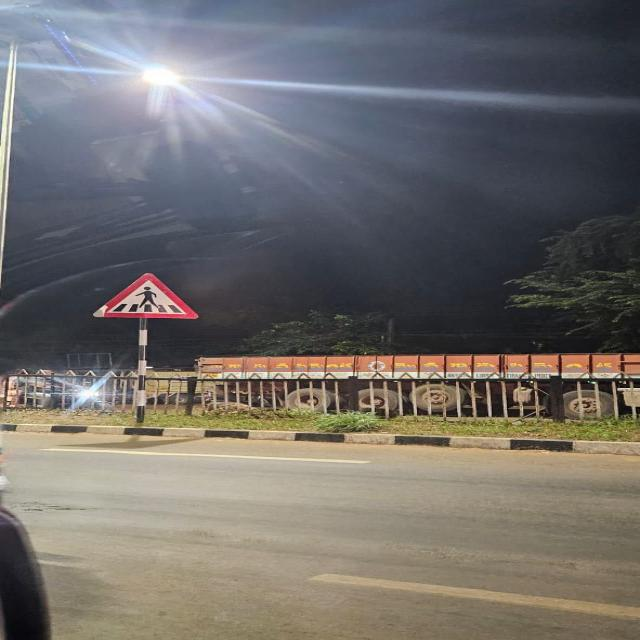Pedestrain_crossing: (101, 277, 205, 320)
